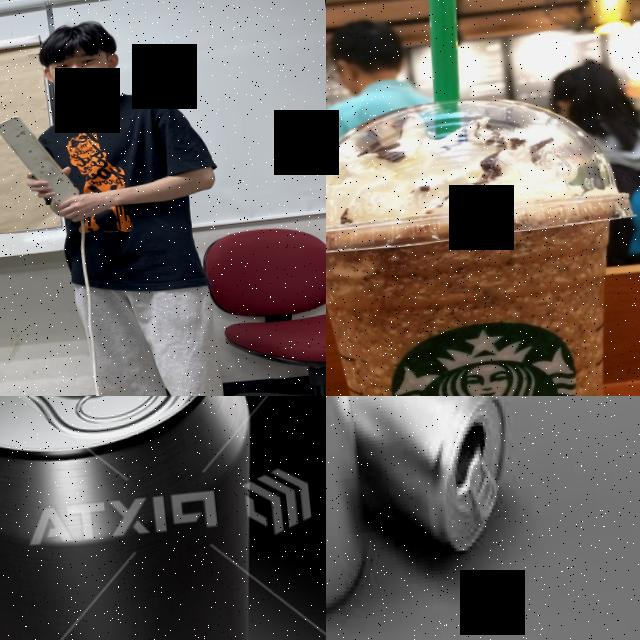can: (0, 396, 294, 640), (334, 396, 517, 573)
cup: (326, 82, 640, 396)
